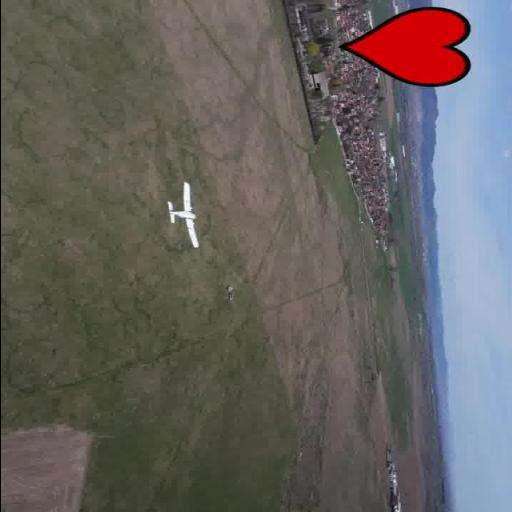uav: (160, 181, 206, 251)
